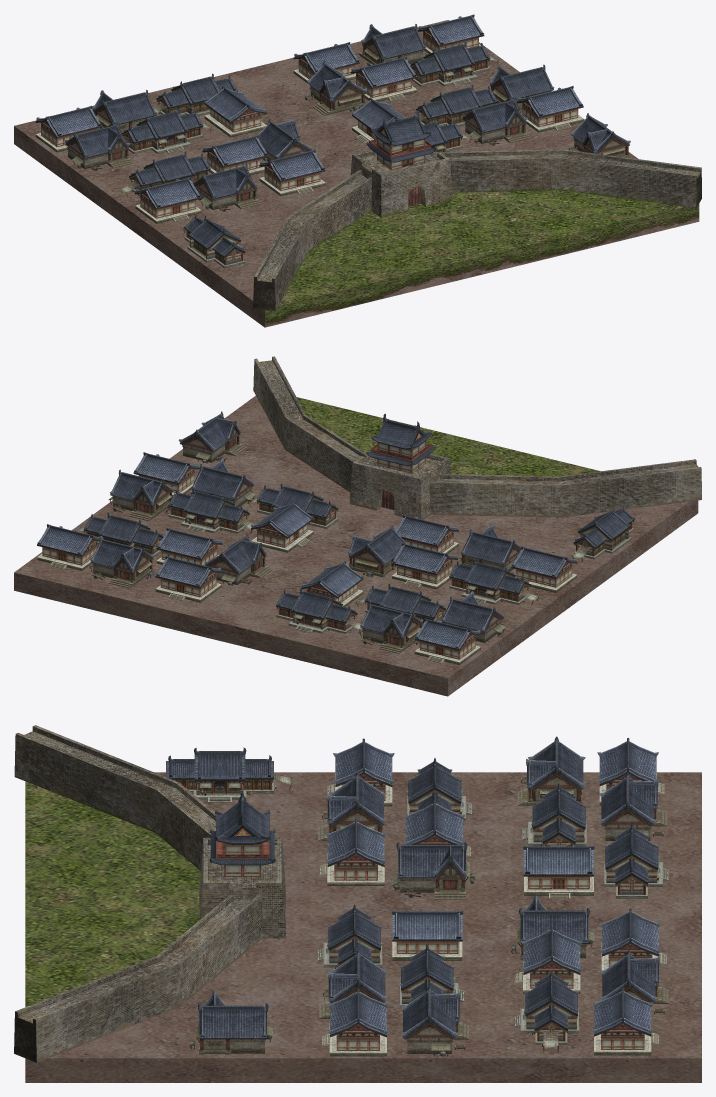
The model's file is map012.FBX.
The picture shows the model from 3 angles, top to bottom: view 1: azimuth 30°, elevation 25°; view 2: azimuth 150°, elevation 25°; view 3: azimuth 270°, elevation 25°; orthographic projection. The views are drawn at different scales.
Parts seen in each view (by area): view 1: pam012, Box073, house163, house167, house153, house144; view 2: pam012, Box073, house163, house167, house153, house144; view 3: pam012, Box073, house163, house167, house153, house144.
Part boxes in pixels (x1=…): pam012: x1=14, y1=20, x2=699, y2=327; Box073: x1=253, y1=149, x2=701, y2=310; house163: x1=35, y1=14, x2=583, y2=223; house167: x1=65, y1=24, x2=630, y2=211; house153: x1=120, y1=41, x2=499, y2=268; house144: x1=366, y1=110, x2=435, y2=169; pam012: x1=14, y1=395, x2=698, y2=696; Box073: x1=253, y1=356, x2=701, y2=519; house163: x1=37, y1=452, x2=577, y2=664; house167: x1=89, y1=411, x2=523, y2=653; house153: x1=75, y1=483, x2=634, y2=633; house144: x1=367, y1=413, x2=435, y2=473; pam012: x1=25, y1=772, x2=701, y2=1082; Box073: x1=14, y1=725, x2=285, y2=1062; house163: x1=319, y1=738, x2=666, y2=1056; house167: x1=189, y1=736, x2=668, y2=1056; house153: x1=166, y1=747, x2=668, y2=1051; house144: x1=209, y1=792, x2=275, y2=876.
Bounding box in the file's own units: 103 × 22.44 × 102.
